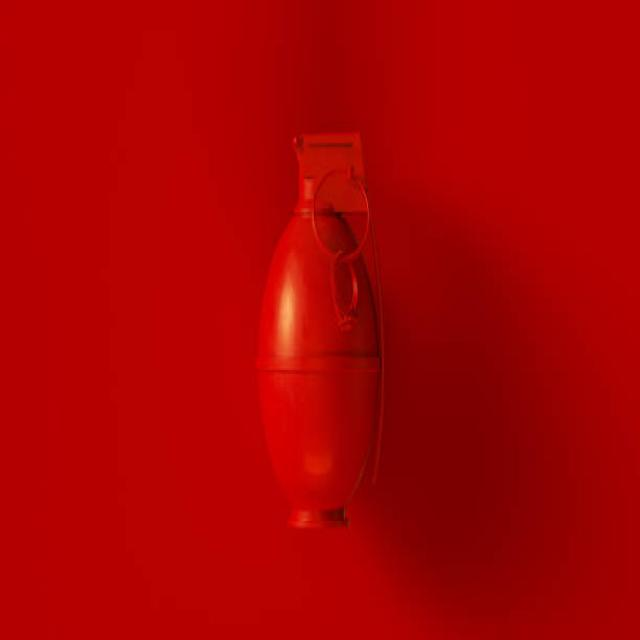grenade: (259, 122, 392, 548)
